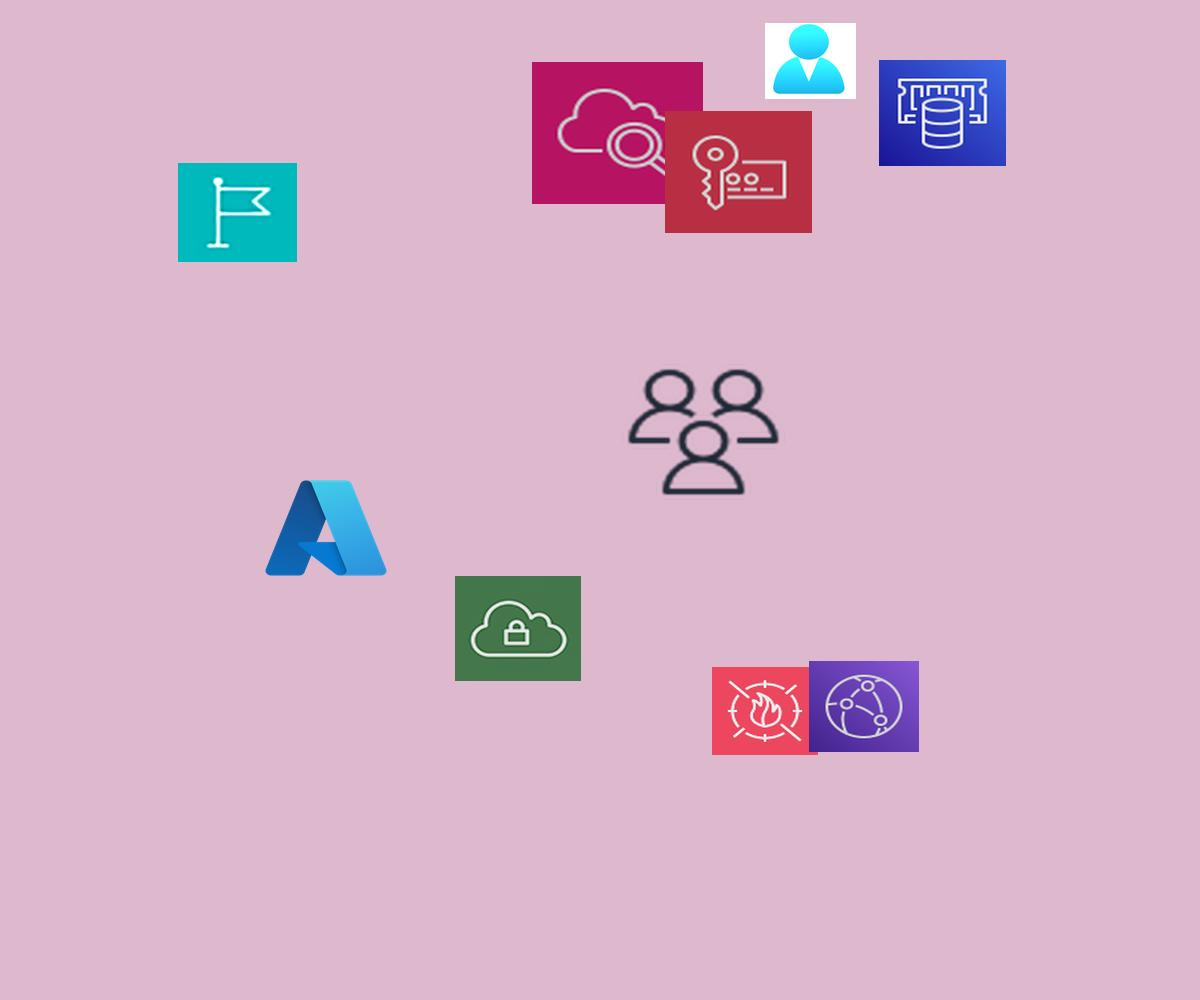AWS-CloudFront: (809, 661, 919, 752)
AWS-CloudWatch: (532, 62, 703, 204)
AWS-ElastiCache: (879, 60, 1006, 166)
AWS-Key-Management-Service: (665, 111, 812, 233)
AWS-Private_vpc: (455, 576, 581, 681)
AWS-Region: (178, 163, 297, 262)
AWS-Res_Users: (622, 364, 785, 500)
AWS-WAF: (712, 667, 818, 755)
Azure_services: (260, 473, 392, 583)
Azure_users: (765, 23, 856, 99)
